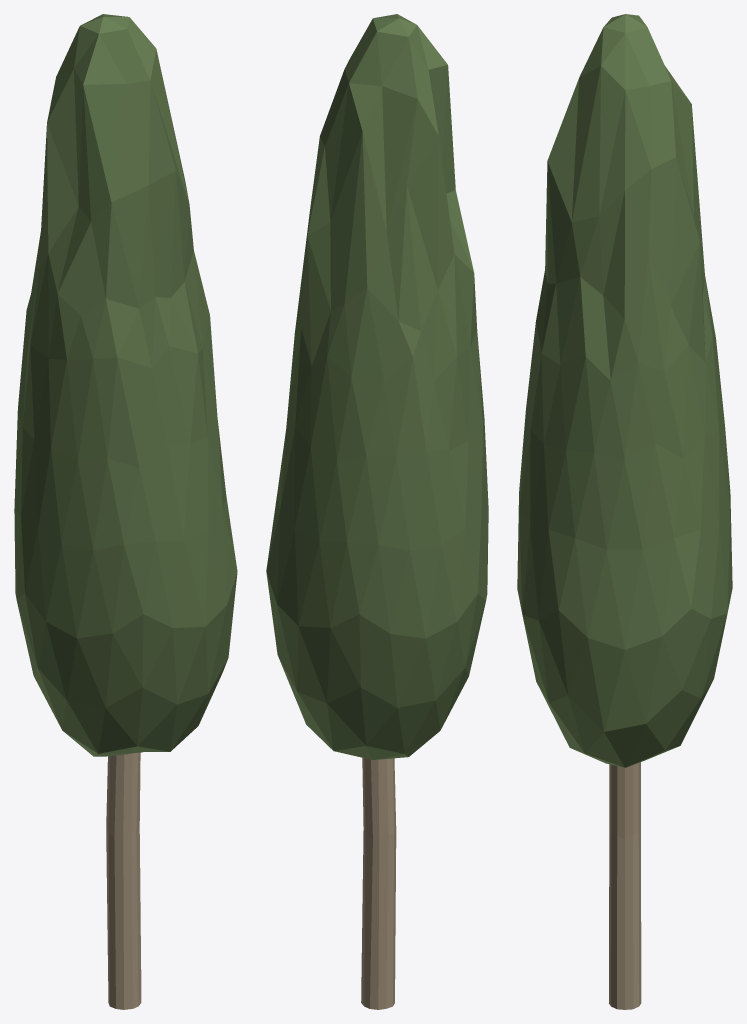
File: greek_tree_2.fbx
The picture shows the model from 3 angles, left to right: view 1: azimuth 30°, elevation 25°; view 2: azimuth 150°, elevation 25°; view 3: azimuth 270°, elevation 25°; orthographic projection.
Parts seen in each view (by area): view 1: Cylinder.003; view 2: Cylinder.003; view 3: Cylinder.003.
Boxes of the visible parts, x1,y1,x2,y2 form: Cylinder.003: [14, 14, 237, 1009]; Cylinder.003: [266, 14, 488, 1009]; Cylinder.003: [517, 14, 732, 1009].
Size of the model in its own units: 196 by 949 by 189.
